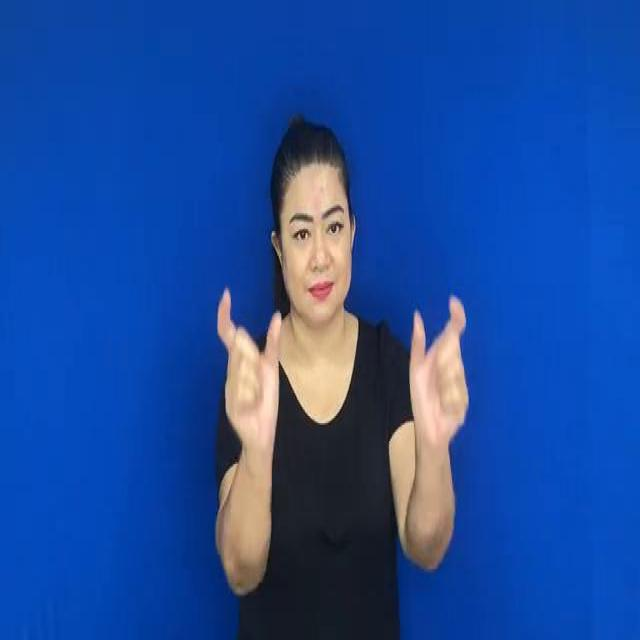crab: (395, 276, 474, 450)
